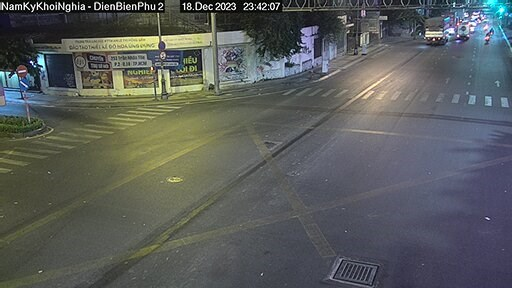truck: (422, 14, 449, 41)
